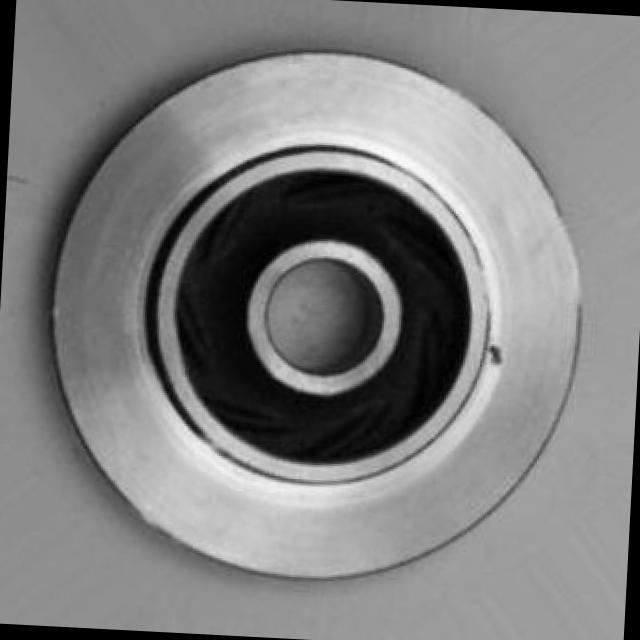Defect: (490, 342, 506, 368)
